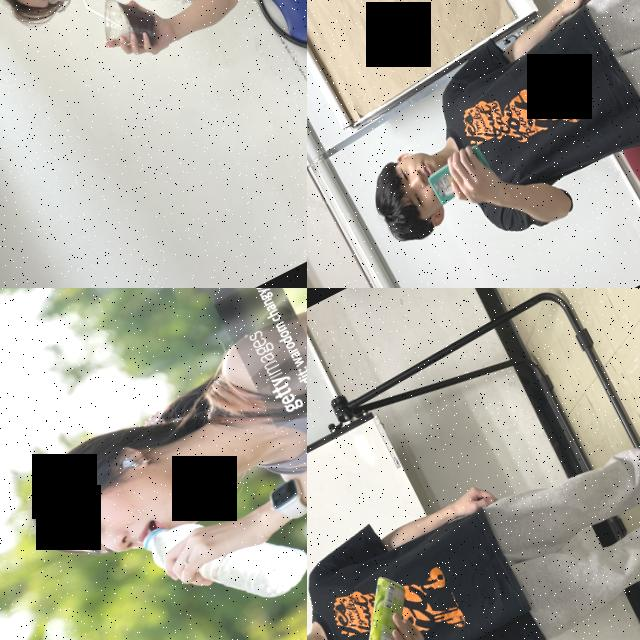bottle: (133, 470, 307, 640)
can: (337, 567, 434, 640)
cup: (87, 0, 166, 65)
